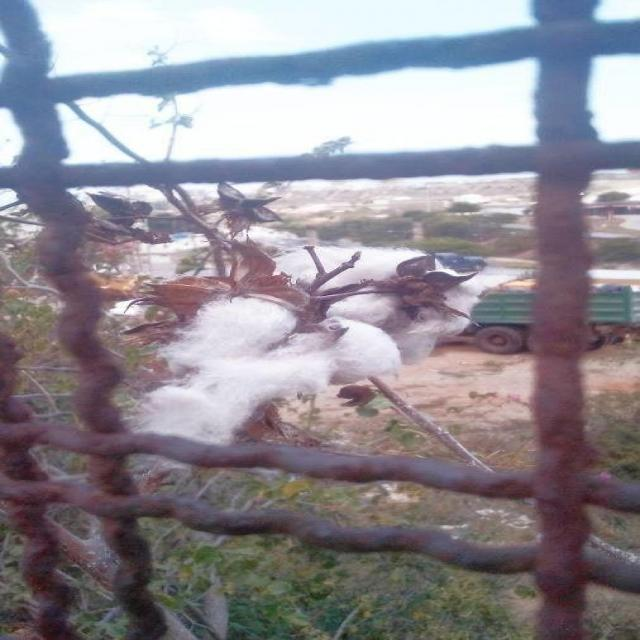Early_blight: (128, 244, 498, 436)
